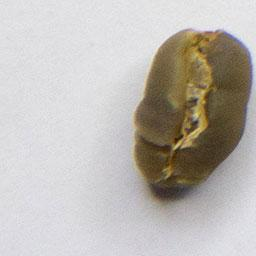peaberry: (128, 25, 256, 194)
